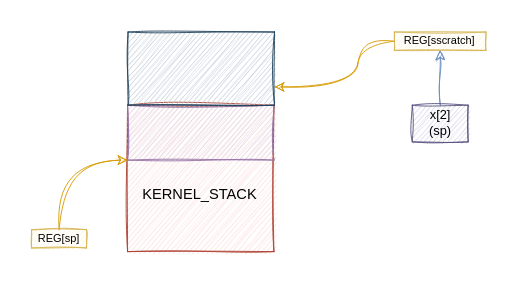
Some shapes in this 518 by 284 pixel diagram are drawn without their labels. The centre of each missing label's shape, as x and y in pixels:
app_context: the point at 200,132
USER_STACK: the point at 200,68
